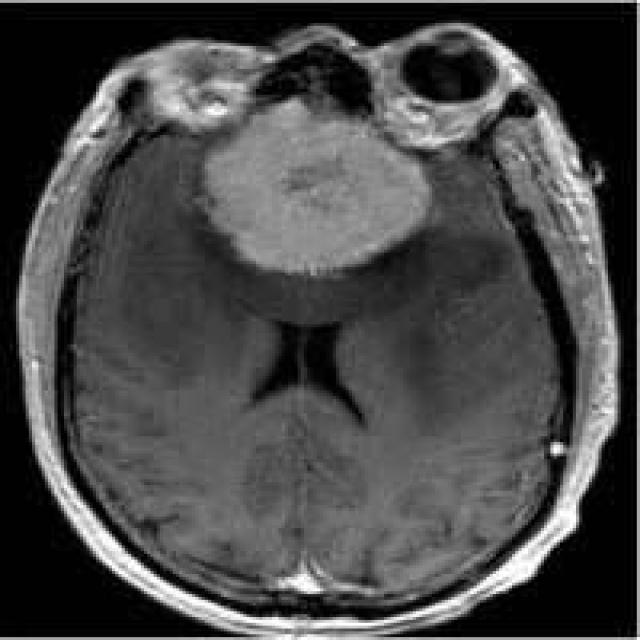Tumor: (205, 98, 432, 276)
